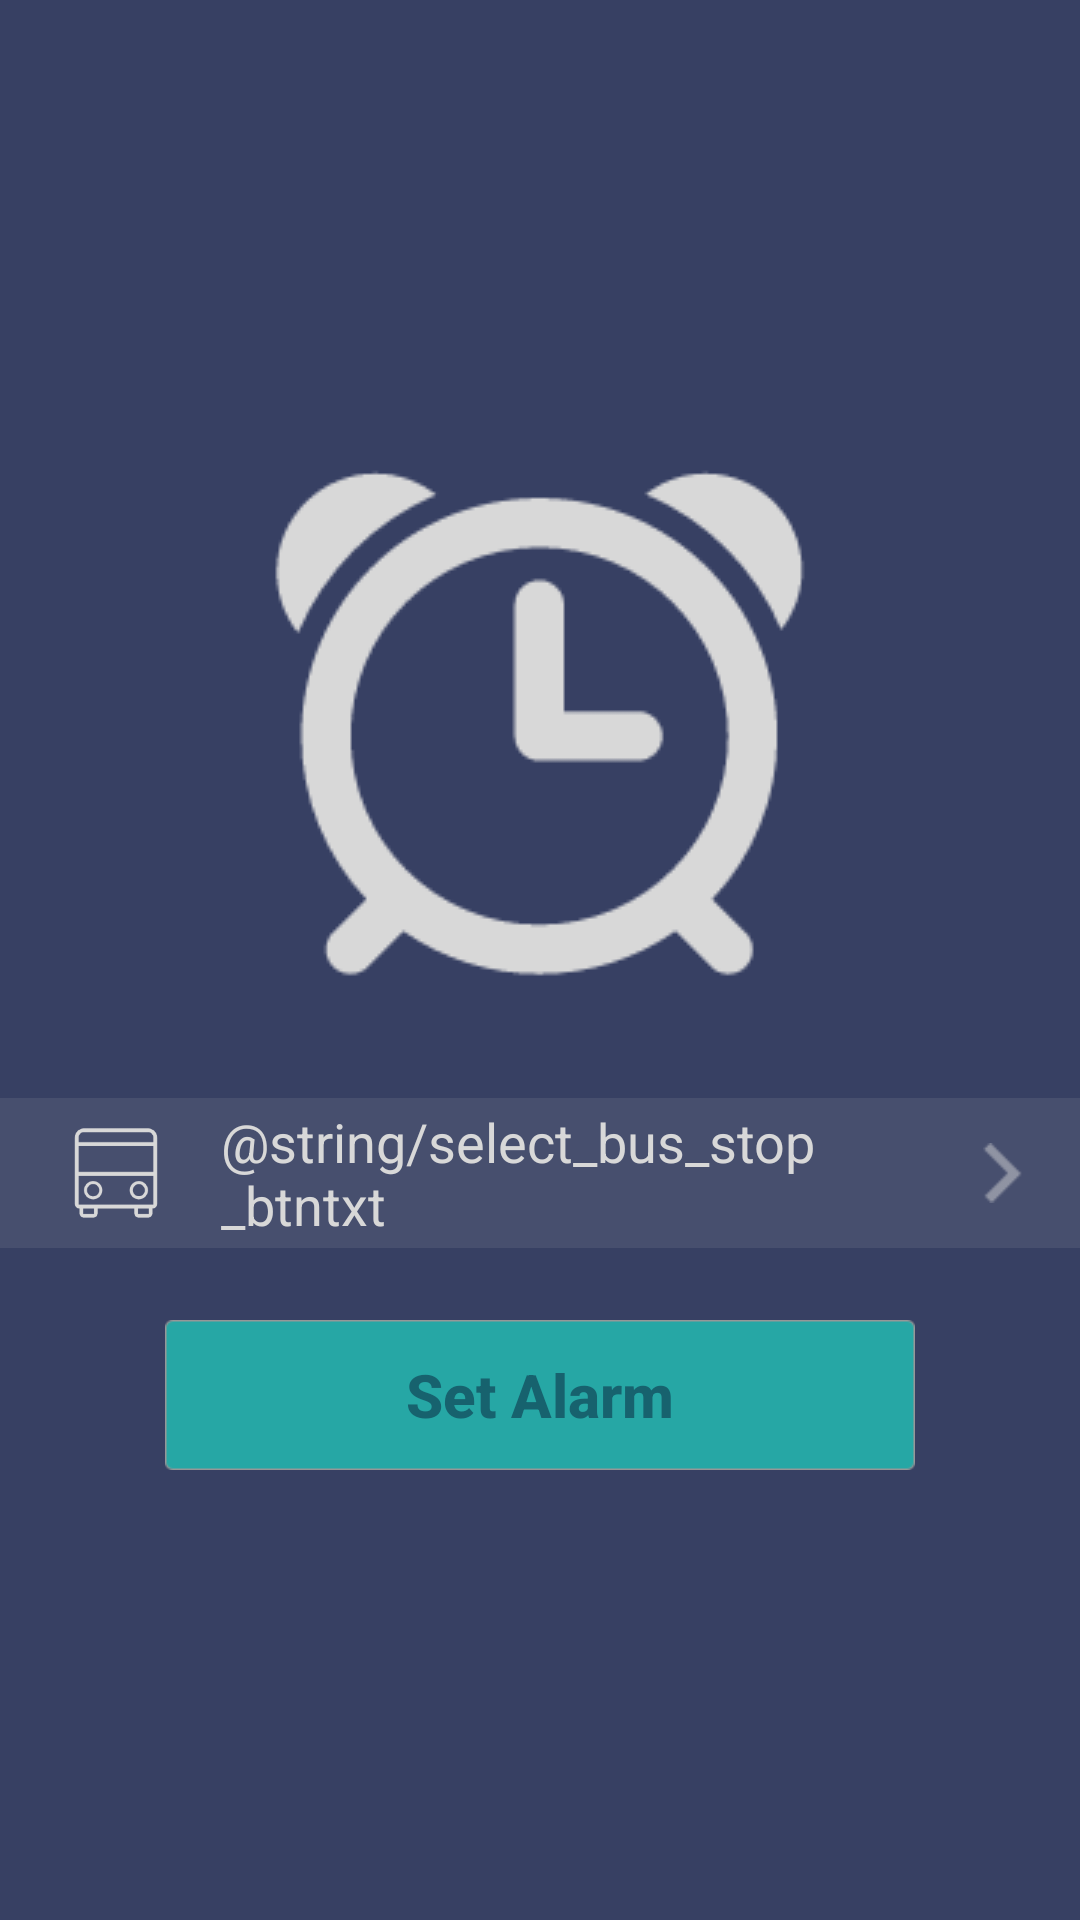

Locate icon controls on the screen. Image size 1080px×1920px, boxes as region(x1, y1, x2, y2).
arrow right: region(985, 1143, 1021, 1203)
